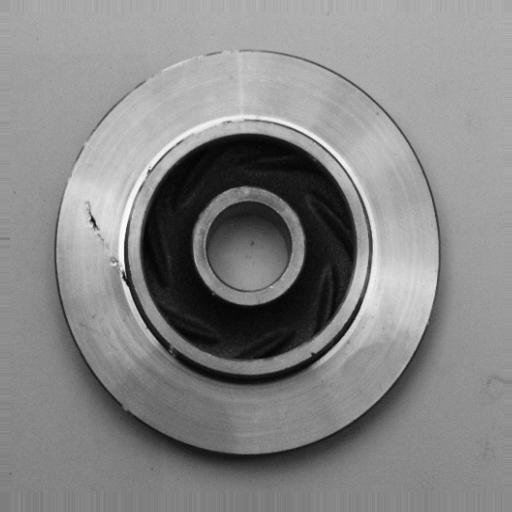crack: (79, 194, 136, 293)
scratch: (177, 111, 260, 138)
unpolished_casting: (50, 45, 446, 462)
